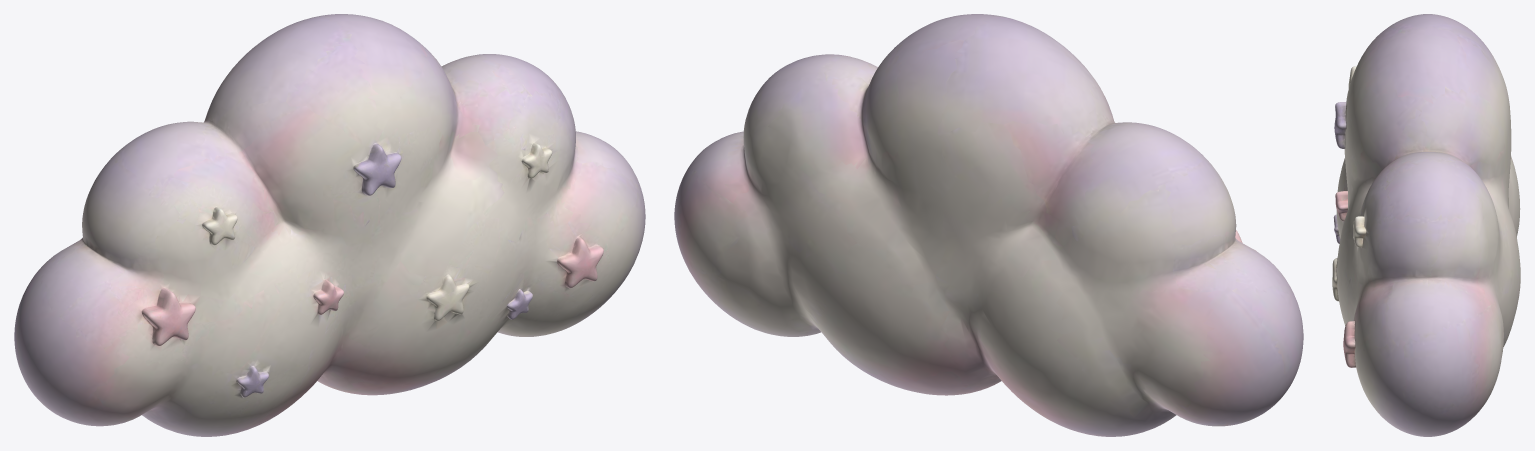
3 renders of one model, left to right at view 1: azimuth 30°, elevation 25°; view 2: azimuth 150°, elevation 25°; view 3: azimuth 270°, elevation 25°, orthographic. The views are drawn at different scales.
Bounding box in the file's own units: 1.9 × 1.13 × 0.5762.
1 material, 1 textured.
